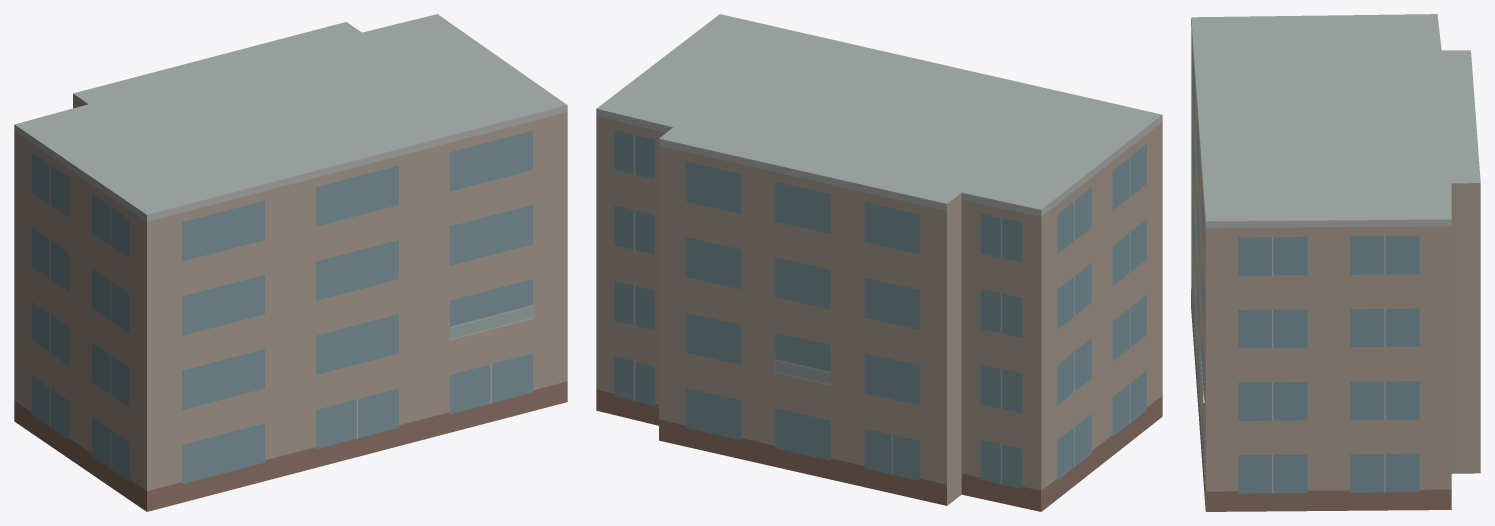
The model's file is survey-upis-32927889.glb.
The picture shows the model from 3 angles, left to right: view 1: azimuth 30°, elevation 25°; view 2: azimuth 150°, elevation 25°; view 3: azimuth 270°, elevation 25°; orthographic projection. The views are drawn at different scales.
Visible parts, largest first — view 1: survey-upis-32927889.tmp; view 2: survey-upis-32927889.tmp; view 3: survey-upis-32927889.tmp.
Boxes of the visible parts, x1,y1,x2,y2 form: survey-upis-32927889.tmp: (14, 14, 567, 511); survey-upis-32927889.tmp: (596, 14, 1162, 511); survey-upis-32927889.tmp: (1191, 14, 1480, 511).
Bounding box in the file's own units: 15.97 × 10.42 × 9.43.
